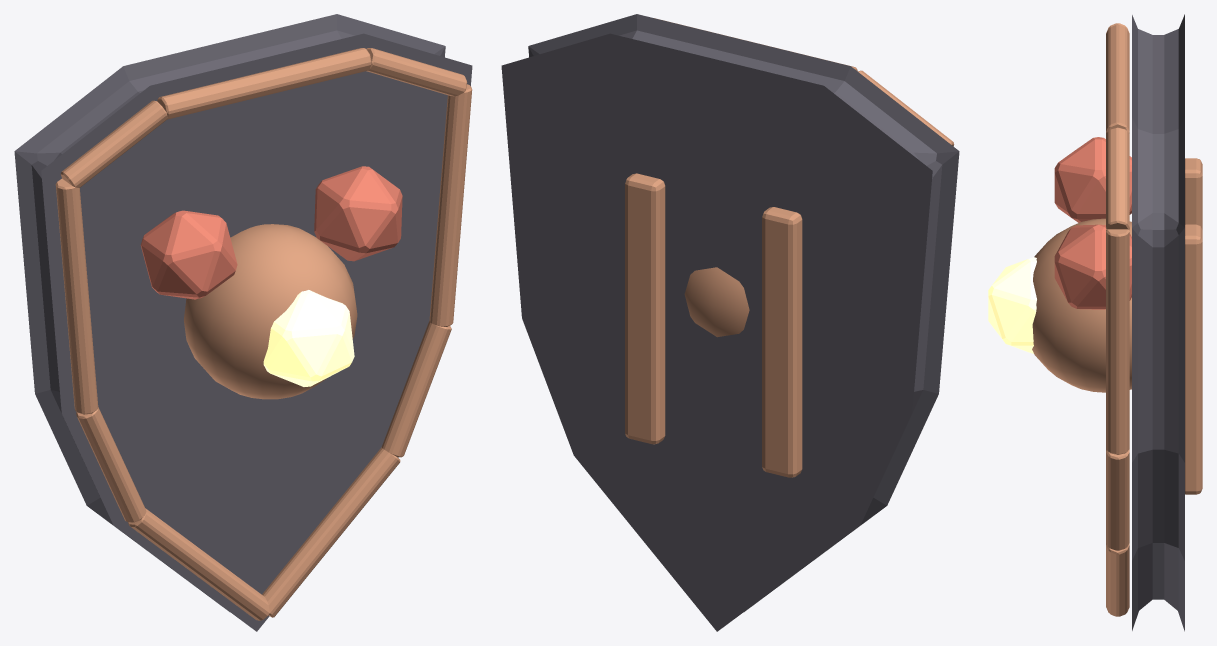
Rendered from warrior-shield-02-emberwall.glb.
The picture shows the model from 3 angles, left to right: view 1: azimuth 30°, elevation 25°; view 2: azimuth 150°, elevation 25°; view 3: azimuth 270°, elevation 25°; orthographic projection.
Visible parts, largest first — view 1: warrior-shield-02-emberwall_ShieldBack, warrior-shield-02-emberwall_BossBase, warrior-shield-02-emberwall_FlameCrest_1, warrior-shield-02-emberwall_FlameCrest_-1, warrior-shield-02-emberwall_BossGem, warrior-shield-02-emberwall_RaisedRim_4, warrior-shield-02-emberwall_RaisedRim_9, warrior-shield-02-emberwall_RaisedRim_2, warrior-shield-02-emberwall_RaisedRim_6, warrior-shield-02-emberwall_RaisedRim_7, warrior-shield-02-emberwall_RaisedRim_5, warrior-shield-02-emberwall_RaisedRim_1 (+2 smaller); view 2: warrior-shield-02-emberwall_ShieldBack, warrior-shield-02-emberwall_BackStrap_1, warrior-shield-02-emberwall_BackStrap_-1, warrior-shield-02-emberwall_BossBase; view 3: warrior-shield-02-emberwall_ShieldBack, warrior-shield-02-emberwall_BossBase, warrior-shield-02-emberwall_RaisedRim_4, warrior-shield-02-emberwall_BackStrap_1, warrior-shield-02-emberwall_FlameCrest_1, warrior-shield-02-emberwall_FlameCrest_-1, warrior-shield-02-emberwall_BossGem, warrior-shield-02-emberwall_RaisedRim_2, warrior-shield-02-emberwall_RaisedRim_3, warrior-shield-02-emberwall_RaisedRim_5, warrior-shield-02-emberwall_RaisedRim_6, warrior-shield-02-emberwall_BackStrap_-1.
Boxes of the visible parts, box(x1,y1,x2,y2) form: warrior-shield-02-emberwall_ShieldBack: box(14, 14, 472, 631); warrior-shield-02-emberwall_BossBase: box(184, 224, 357, 399); warrior-shield-02-emberwall_FlameCrest_1: box(314, 166, 402, 261); warrior-shield-02-emberwall_FlameCrest_-1: box(140, 210, 237, 299); warrior-shield-02-emberwall_BossGem: box(263, 290, 354, 386); warrior-shield-02-emberwall_RaisedRim_4: box(429, 84, 472, 326); warrior-shield-02-emberwall_RaisedRim_9: box(55, 178, 98, 414); warrior-shield-02-emberwall_RaisedRim_2: box(157, 48, 371, 119); warrior-shield-02-emberwall_RaisedRim_6: box(262, 447, 400, 617); warrior-shield-02-emberwall_RaisedRim_7: box(128, 508, 269, 620); warrior-shield-02-emberwall_RaisedRim_5: box(382, 321, 451, 457); warrior-shield-02-emberwall_RaisedRim_1: box(60, 100, 167, 187); warrior-shield-02-emberwall_ShieldBack: box(501, 14, 959, 631); warrior-shield-02-emberwall_BackStrap_1: box(625, 173, 665, 444); warrior-shield-02-emberwall_BackStrap_-1: box(762, 207, 802, 477); warrior-shield-02-emberwall_BossBase: box(684, 267, 749, 337); warrior-shield-02-emberwall_ShieldBack: box(1132, 14, 1184, 631); warrior-shield-02-emberwall_BossBase: box(1032, 218, 1131, 392); warrior-shield-02-emberwall_RaisedRim_4: box(1106, 229, 1129, 454); warrior-shield-02-emberwall_BackStrap_1: box(1185, 224, 1202, 494); warrior-shield-02-emberwall_FlameCrest_1: box(1054, 224, 1131, 309); warrior-shield-02-emberwall_FlameCrest_-1: box(1054, 137, 1131, 222); warrior-shield-02-emberwall_BossGem: box(988, 257, 1036, 353); warrior-shield-02-emberwall_RaisedRim_2: box(1106, 25, 1129, 133); warrior-shield-02-emberwall_RaisedRim_3: box(1106, 127, 1129, 229); warrior-shield-02-emberwall_RaisedRim_5: box(1106, 449, 1129, 550); warrior-shield-02-emberwall_RaisedRim_6: box(1106, 543, 1129, 616); warrior-shield-02-emberwall_BackStrap_-1: box(1185, 158, 1202, 229).
Size of the model in its own units: 1.07 by 1.36 by 0.4652.
